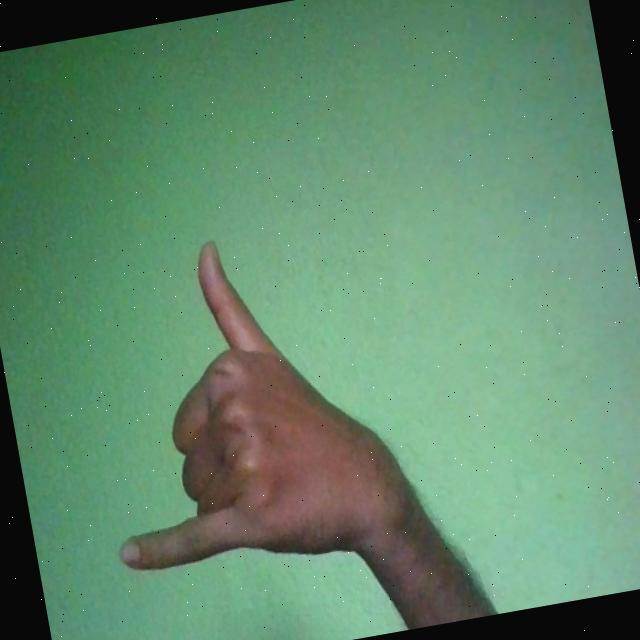Call Me: (69, 208, 432, 596)
